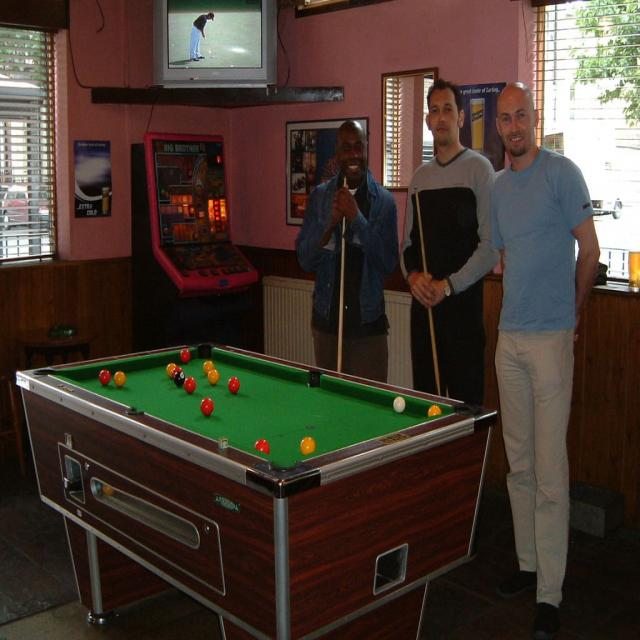Ball: (301, 436, 317, 456), (253, 439, 272, 455), (393, 396, 406, 414), (228, 375, 240, 393), (173, 371, 186, 387), (186, 376, 196, 396), (114, 371, 125, 389), (98, 370, 110, 386), (167, 363, 180, 377), (428, 406, 442, 419), (202, 398, 212, 416), (100, 483, 112, 497), (209, 371, 220, 386), (203, 360, 213, 376), (179, 349, 191, 362), (172, 365, 180, 379)
Billiard table: (15, 343, 498, 639)
